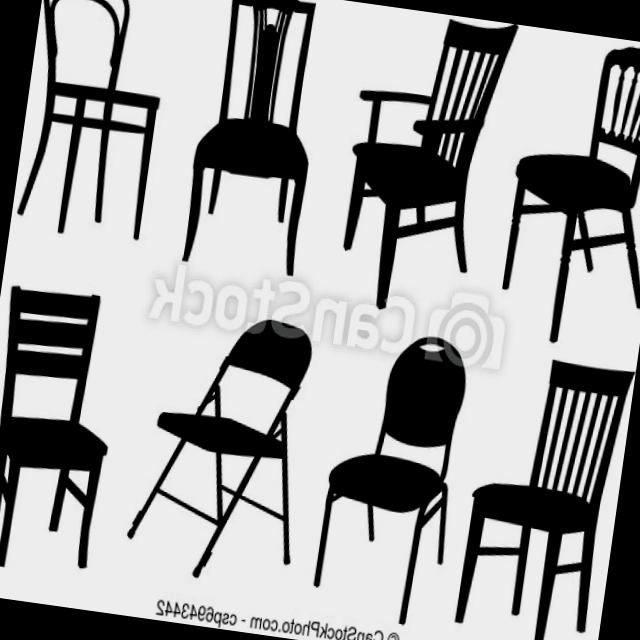obstacle: (316, 3, 528, 334), (112, 276, 327, 599), (292, 298, 482, 632), (441, 322, 637, 640), (491, 27, 640, 362), (162, 0, 334, 287), (8, 0, 193, 263), (0, 250, 141, 594)
